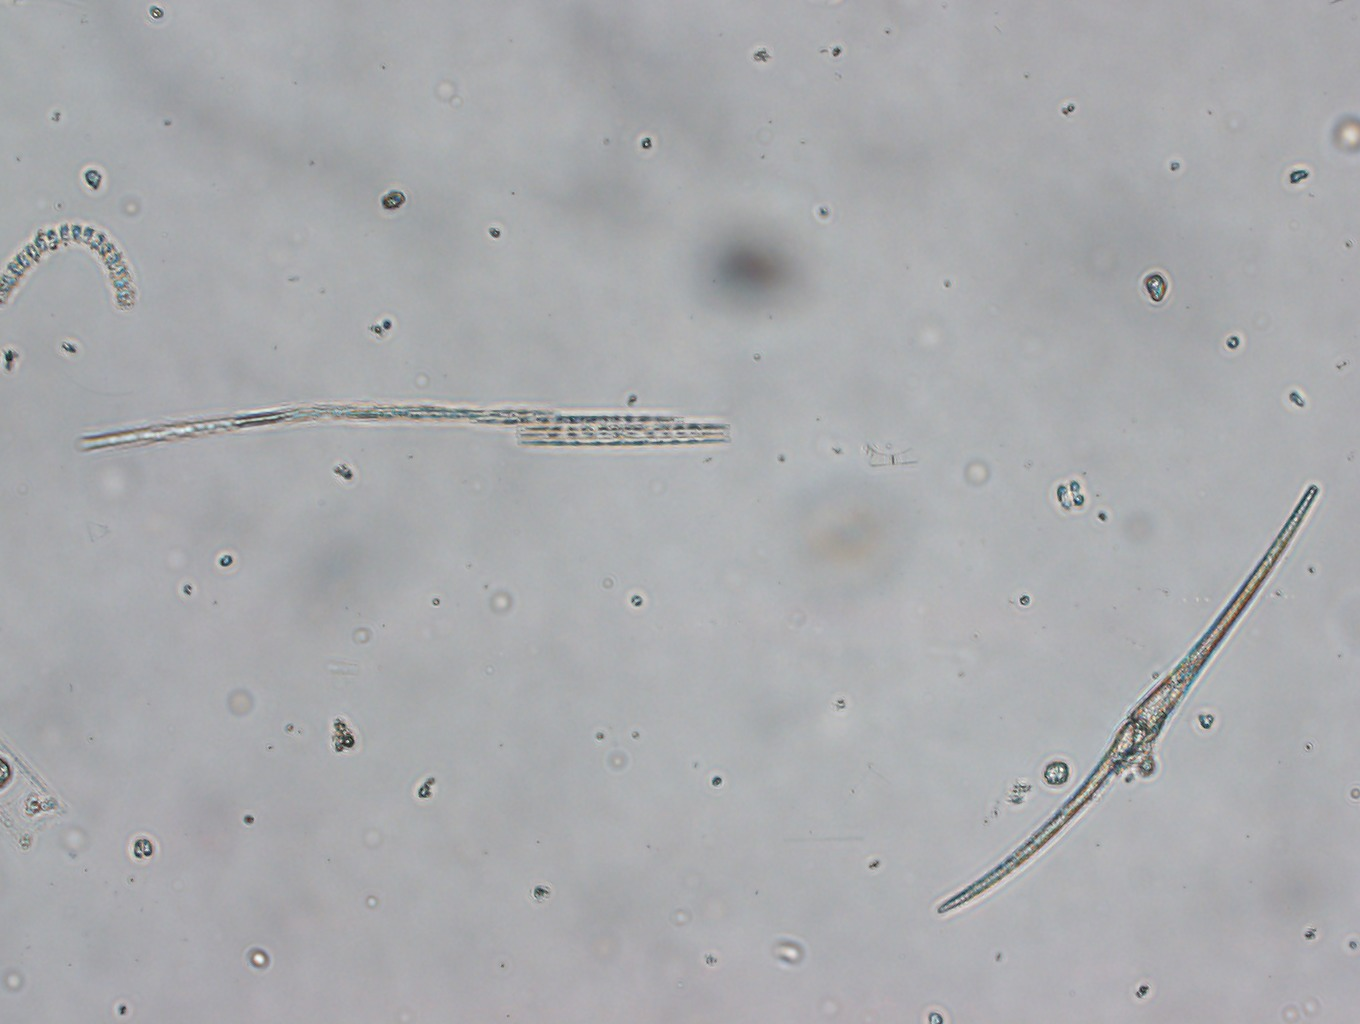ceratium fusus: (925, 436, 1336, 928)
